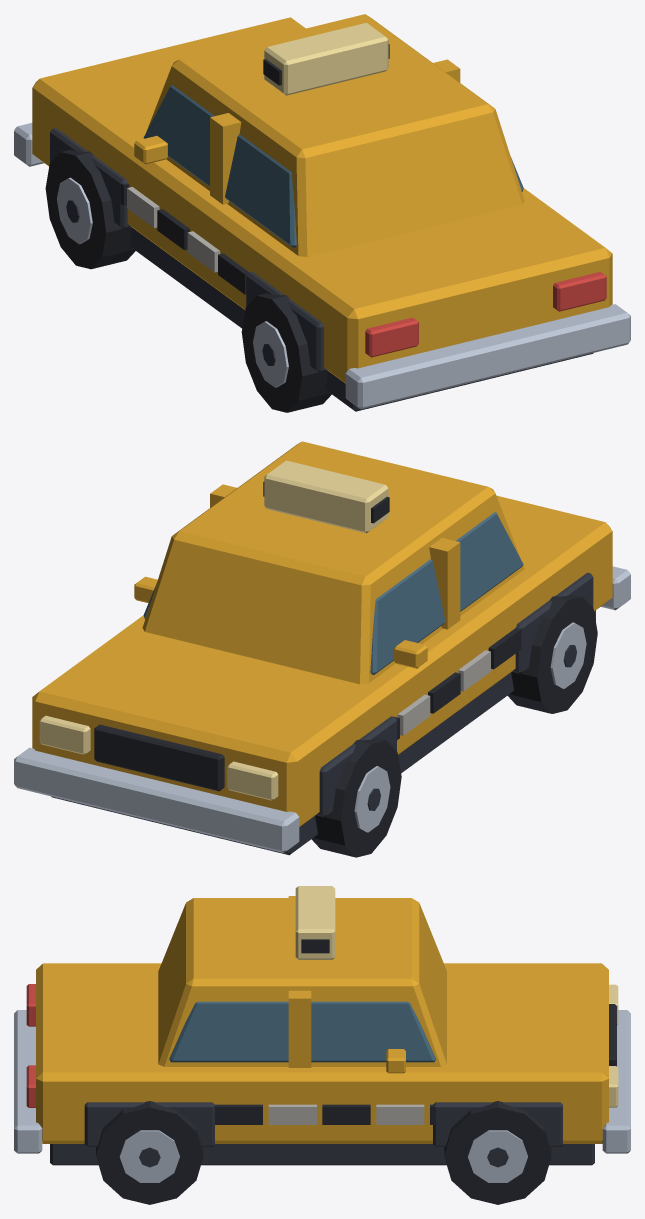
File: Stylized_Vehicle_Taxi_NYC.fbx
3 renders of one model, top to bottom at view 1: azimuth 30°, elevation 25°; view 2: azimuth 150°, elevation 25°; view 3: azimuth 270°, elevation 25°, orthographic. The views are drawn at different scales.
Visible parts, largest first — view 1: Stylized_Vehicle_Taxi_NYC; view 2: Stylized_Vehicle_Taxi_NYC; view 3: Stylized_Vehicle_Taxi_NYC.
Part boxes in pixels (x1,y1,x2,y2): Stylized_Vehicle_Taxi_NYC: [14, 14, 630, 412]; Stylized_Vehicle_Taxi_NYC: [14, 441, 630, 857]; Stylized_Vehicle_Taxi_NYC: [14, 886, 630, 1204].
Bounding box in the file's own units: 2.19 × 1.82 × 4.36.
